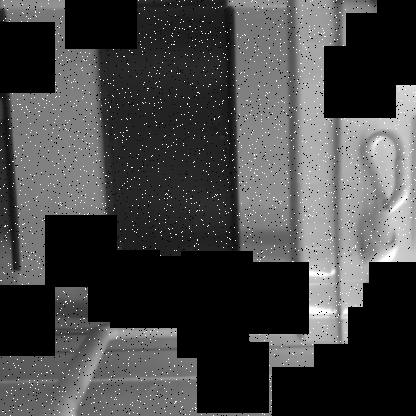Porte: (95, 5, 242, 270)
